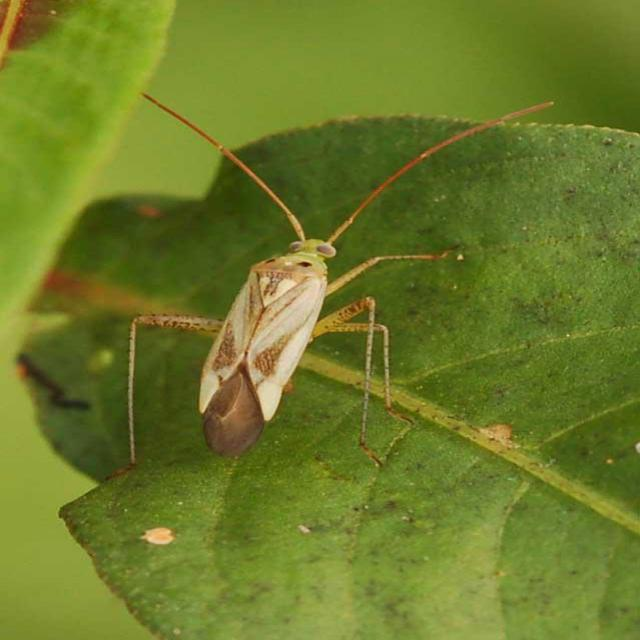Miridae-Adult-: (119, 75, 455, 455)
